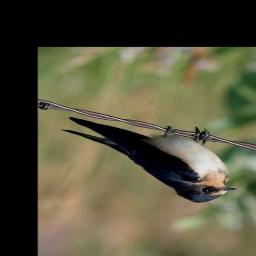Swallow: (61, 113, 239, 205)
